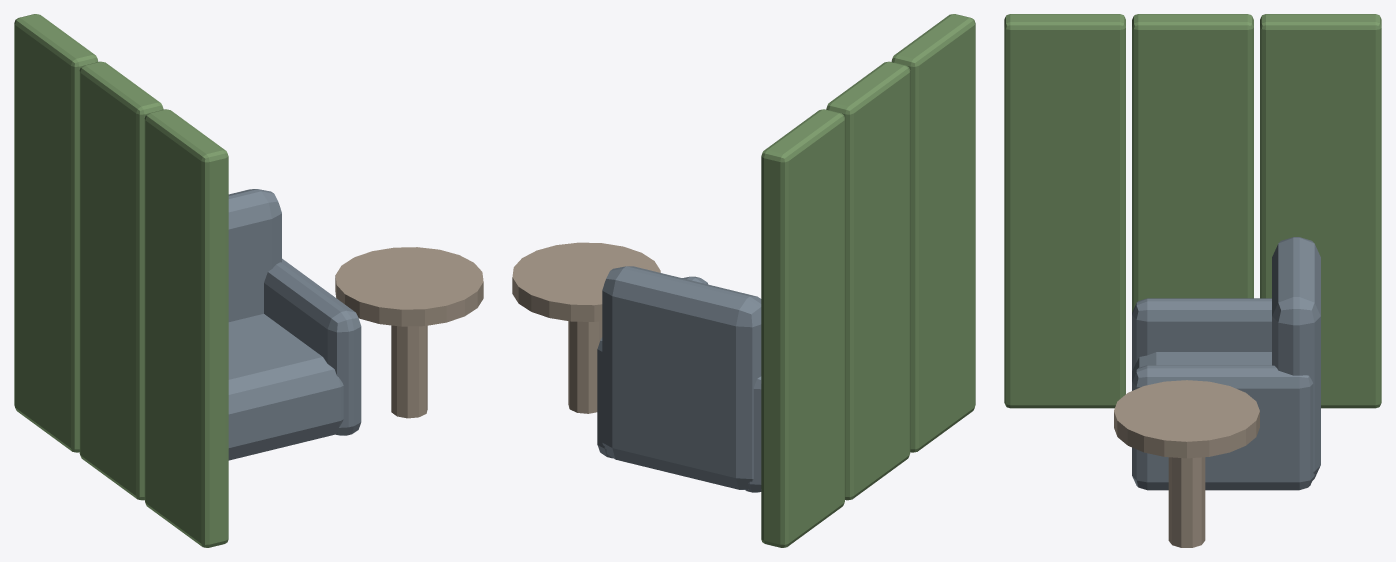
The model's file is quiet-corner.glb.
The picture shows the model from 3 angles, left to right: view 1: azimuth 30°, elevation 25°; view 2: azimuth 150°, elevation 25°; view 3: azimuth 270°, elevation 25°; orthographic projection.
Parts seen in each view (by area): view 1: PlantScreen, Armchair, SideTable; view 2: PlantScreen, Armchair, SideTable; view 3: PlantScreen, Armchair, SideTable.
Boxes of the visible parts, bbox=[...] form: PlantScreen: bbox=[14, 14, 228, 547]; Armchair: bbox=[228, 189, 361, 460]; SideTable: bbox=[335, 247, 483, 418]; PlantScreen: bbox=[761, 14, 975, 547]; Armchair: bbox=[597, 266, 761, 492]; SideTable: bbox=[512, 242, 660, 413]; PlantScreen: bbox=[1004, 14, 1381, 408]; Armchair: bbox=[1132, 237, 1320, 490]; SideTable: bbox=[1114, 380, 1259, 547].
Size of the model in its own units: 0.0675 by 0.07 by 0.062.
